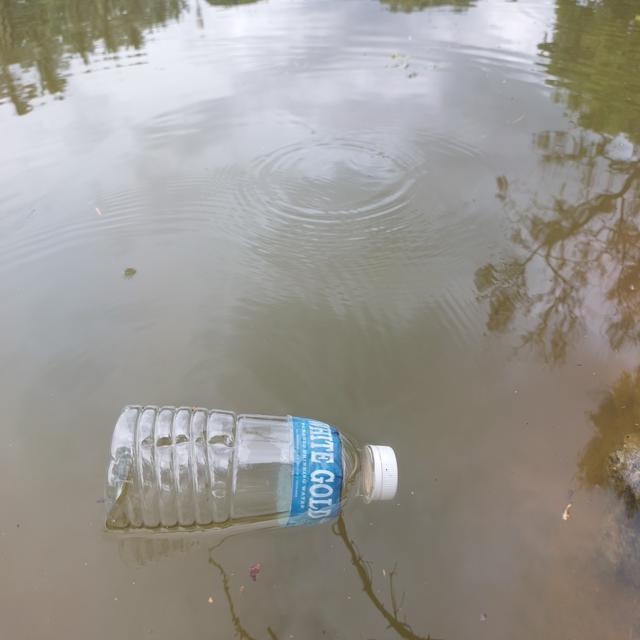waterbottle: (103, 392, 419, 560)
